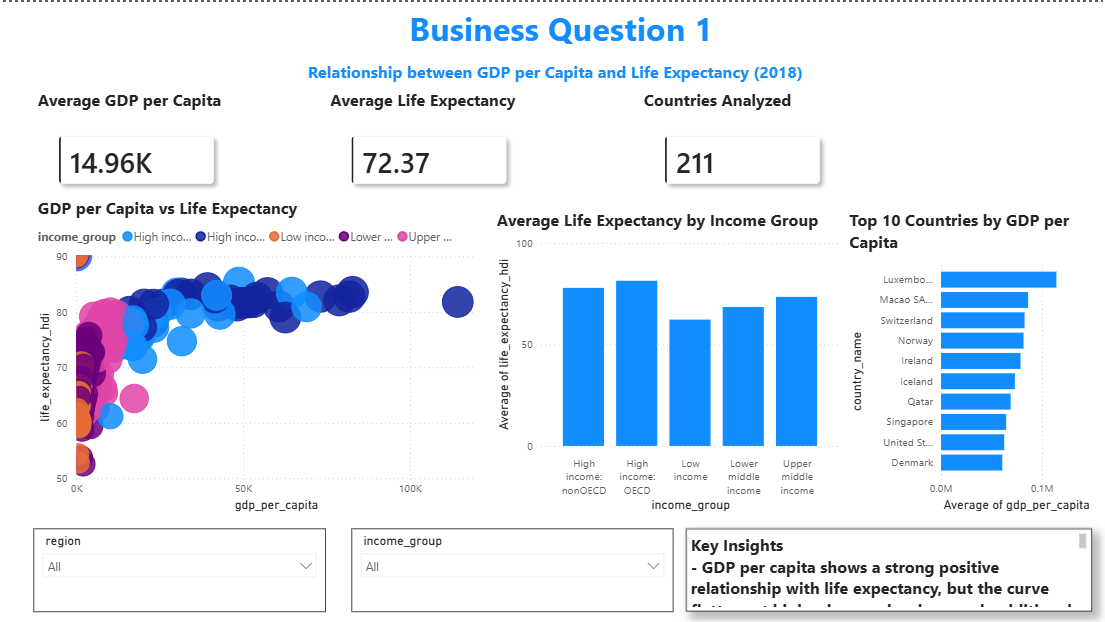

What the dashboard file says about the page in this screenshot:
{"tool":"powerbi","page":{"name":"Business Question 1","canvas":[1280,720],"ordinal":1},"visuals":[{"type":"textbox","box":[11.7,0,1268.6,62.8],"z":0},{"type":"textbox","box":[5.8,62.8,1268.6,38],"z":1000},{"type":"slicer","fields":{"Values":["world_economic_indicators dim_country.region"]},"box":[40,606,336,96],"z":2000},{"type":"slicer","fields":{"Values":["world_economic_indicators dim_country.income_group"]},"box":[406,606,370,96],"z":3000},{"type":"cardVisual","title":"Average GDP per Capita","fields":{"Data":["Avg(world_economic_indicators fact_country_year.gdp_per_capita)"]},"box":[40,100,236,138],"z":4000},{"type":"cardVisual","title":"Average Life Expectancy","fields":{"Data":["Avg(world_economic_indicators fact_country_year.life_expectancy_hdi)"]},"box":[376,100,236,138],"z":5000},{"type":"cardVisual","title":"Countries Analyzed","fields":{"Data":["Count(world_economic_indicators dim_country.country_name)"]},"box":[736,100,236,138],"z":6000},{"type":"scatterChart","title":"GDP per Capita vs Life Expectancy","fields":{"X":["world_economic_indicators fact_country_year.gdp_per_capita"],"Y":["world_economic_indicators fact_country_year.life_expectancy_hdi"],"Series":["world_economic_indicators dim_country.income_group"],"Size":["Avg(world_economic_indicators fact_country_year.hdi)"]},"box":[40,224,528,366],"z":7000},{"type":"clusteredColumnChart","title":"Average Life Expectancy by Income Group","fields":{"Category":["world_economic_indicators dim_country.income_group"],"Y":["Avg(world_economic_indicators fact_country_year.life_expectancy_hdi)"]},"box":[568,238,404,352],"z":8000},{"type":"clusteredBarChart","title":"Top 10 Countries by GDP per Capita","fields":{"Category":["world_economic_indicators dim_country.country_name"],"Y":["Avg(world_economic_indicators fact_country_year.gdp_per_capita)"]},"box":[972,238,303,352],"z":9000},{"type":"textbox","box":[788.9,605.7,466.4,95.4],"z":10000}]}

Visuals, with their boxes in screenshot pixels (x1, y1, x2, y2), scaled from the page's 1280x720 canvas onto the 1105x622 screenshot:
textbox: box=[10, 0, 1104, 54]
textbox: box=[5, 54, 1100, 87]
slicer - world_economic_indicators dim_country.region: box=[35, 524, 325, 606]
slicer - world_economic_indicators dim_country.income_group: box=[350, 524, 670, 606]
"Average GDP per Capita" cardVisual: box=[35, 86, 238, 206]
"Average Life Expectancy" cardVisual: box=[325, 86, 528, 206]
"Countries Analyzed" cardVisual: box=[635, 86, 839, 206]
"GDP per Capita vs Life Expectancy" scatterChart: box=[35, 194, 490, 510]
"Average Life Expectancy by Income Group" clusteredColumnChart: box=[490, 206, 839, 510]
"Top 10 Countries by GDP per Capita" clusteredBarChart: box=[839, 206, 1101, 510]
textbox: box=[681, 523, 1084, 606]
